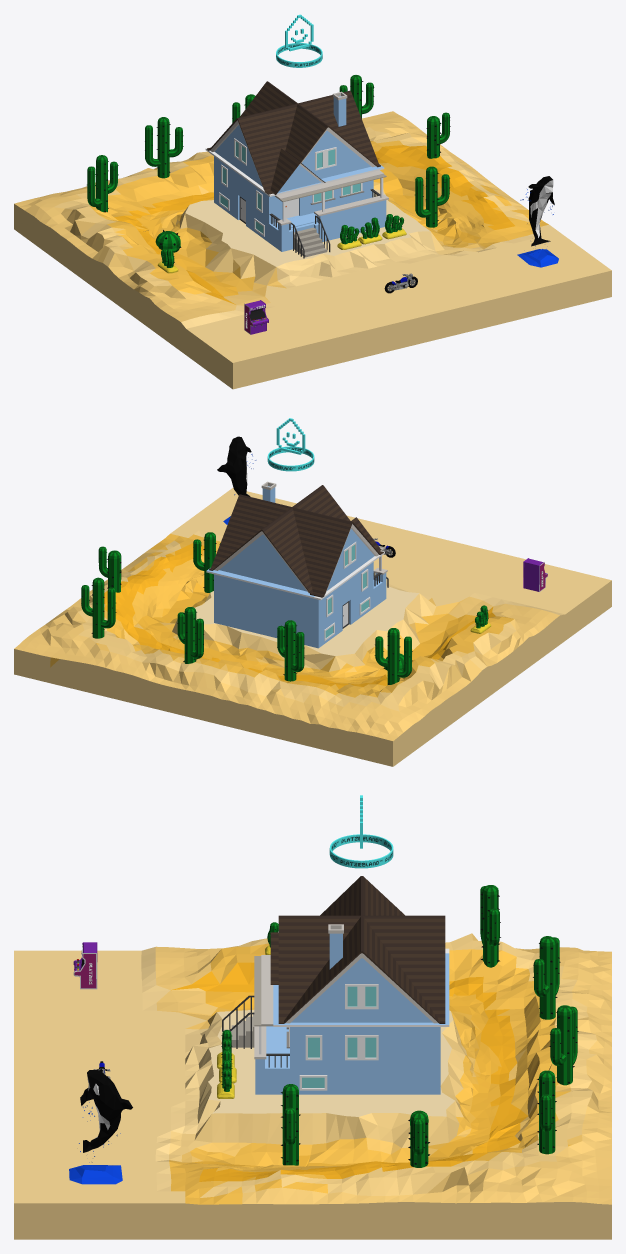
3 views of the same model, one above another, from view 1: azimuth 30°, elevation 25°; view 2: azimuth 150°, elevation 25°; view 3: azimuth 270°, elevation 25° (orthographic). The views are drawn at different scales.
Visible parts, largest first — view 1: Cube.001, Cube.1594, ANIMAL_ORCA, Cylinder.044, Cylinder.037, Cylinder.045, TYPE_PREMIUM, Cylinder.038, OBJRANDOM_ARCADE, Cylinder.042; view 2: Cube.001, Cube.1594, Cylinder.042, Cylinder.045, Cylinder.044, Cylinder.043, ANIMAL_ORCA, TYPE_PREMIUM, Cylinder.037, Cylinder.038, OBJRANDOM_ARCADE; view 3: Cube.001, Cube.1594, ANIMAL_ORCA, Cylinder.044, Cylinder.043, Cylinder.045, Cylinder.042, Cylinder.037, TYPE_PREMIUM, Cylinder.038, OBJRANDOM_ARCADE.
Boxes of the visible parts, x1,y1,x2,y2 form: Cube.001: (14, 111, 611, 389); Cube.1594: (205, 81, 388, 258); ANIMAL_ORCA: (517, 176, 558, 267); Cylinder.044: (145, 117, 183, 178); Cylinder.037: (415, 166, 449, 227); Cylinder.045: (87, 155, 118, 212); TYPE_PREMIUM: (276, 14, 322, 67); Cylinder.038: (426, 112, 450, 158); OBJRANDOM_ARCADE: (244, 300, 268, 334); Cylinder.042: (339, 75, 374, 118); Cube.001: (14, 488, 611, 766); Cube.1594: (206, 481, 388, 648); Cylinder.042: (81, 577, 116, 638); Cylinder.045: (374, 628, 412, 684); Cylinder.044: (277, 620, 304, 681); Cylinder.043: (177, 607, 203, 663); ANIMAL_ORCA: (217, 436, 256, 524); TYPE_PREMIUM: (267, 418, 314, 471); Cylinder.037: (193, 532, 220, 592); Cylinder.038: (98, 546, 121, 592); OBJRANDOM_ARCADE: (523, 558, 547, 591); Cube.001: (14, 933, 611, 1239); Cube.1594: (222, 876, 449, 1094); ANIMAL_ORCA: (69, 1069, 132, 1184); Cylinder.044: (533, 936, 560, 1019); Cylinder.043: (549, 1005, 578, 1085); Cylinder.045: (480, 885, 500, 967); Cylinder.042: (537, 1070, 556, 1154); Cylinder.037: (281, 1084, 300, 1165); TYPE_PREMIUM: (329, 795, 393, 868); Cylinder.038: (408, 1110, 429, 1167); OBJRANDOM_ARCADE: (73, 942, 97, 989).
Size of the model in its own units: 4002 by 2437 by 4001.
37 materials, 3 textured.
